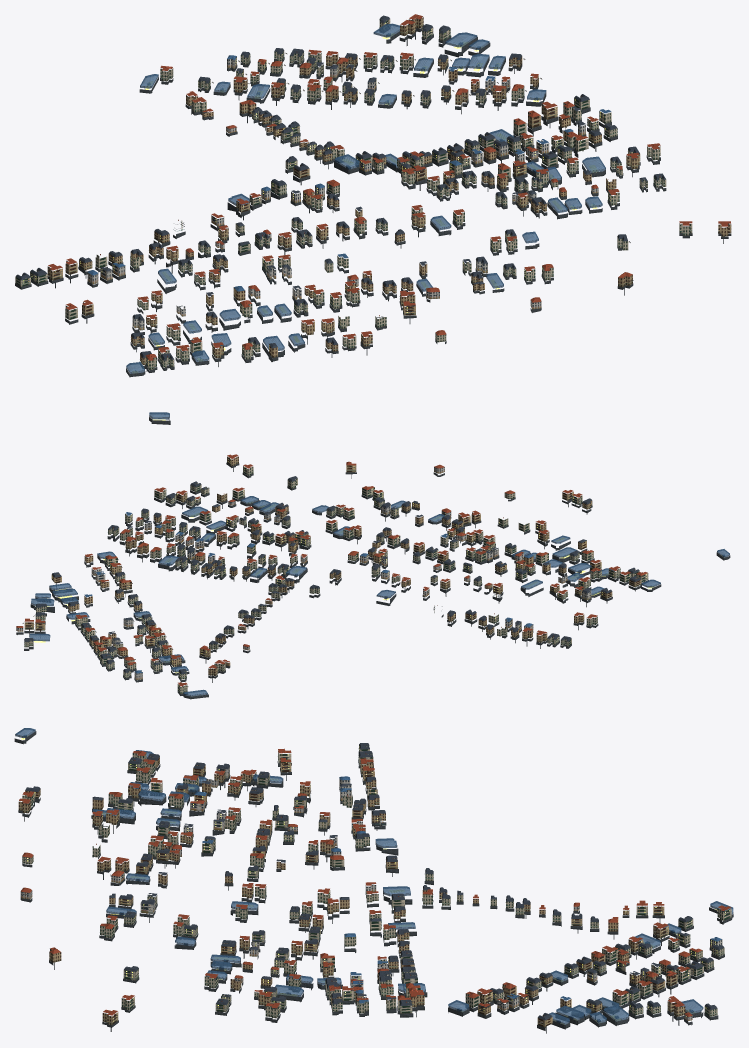
The model's file is osm_buildings_T_W01_N00_Q1.glb.
3 renders of one model, top to bottom at view 1: azimuth 30°, elevation 25°; view 2: azimuth 150°, elevation 25°; view 3: azimuth 270°, elevation 25°, orthographic. The views are drawn at different scales.
Visible parts, largest first — view 1: OSM_PBR_T_W01_N00_Q1_foundation, OSM_PBR_T_W01_N00_Q1_wall_cream_stucco, OSM_PBR_T_W01_N00_Q1_wall_french_ochre, OSM_PBR_T_W01_N00_Q1_greenhouse_blend, OSM_PBR_T_W01_N00_Q1_roof_terracotta, OSM_PBR_T_W01_N00_Q1_roof_mansard_slate, OSM_PBR_T_W01_N00_Q1_roof_mansard_deck, OSM_PBR_T_W01_N00_Q1_wall_warm_white, OSM_PBR_T_W01_N00_Q1_roof_mint_metal, OSM_PBR_T_W01_N00_Q1_trim_cornice, OSM_PBR_T_W01_N00_Q1_wall_pastel_sand, OSM_PBR_T_W01_N00_Q1_window_emissive_warm (+1 smaller); view 2: OSM_PBR_T_W01_N00_Q1_foundation, OSM_PBR_T_W01_N00_Q1_wall_cream_stucco, OSM_PBR_T_W01_N00_Q1_wall_french_ochre, OSM_PBR_T_W01_N00_Q1_greenhouse_blend, OSM_PBR_T_W01_N00_Q1_roof_terracotta, OSM_PBR_T_W01_N00_Q1_roof_mansard_slate, OSM_PBR_T_W01_N00_Q1_roof_mansard_deck, OSM_PBR_T_W01_N00_Q1_wall_warm_white, OSM_PBR_T_W01_N00_Q1_roof_mint_metal, OSM_PBR_T_W01_N00_Q1_wall_pastel_sand, OSM_PBR_T_W01_N00_Q1_balcony_railing, OSM_PBR_T_W01_N00_Q1_window_emissive_warm (+1 smaller); view 3: OSM_PBR_T_W01_N00_Q1_wall_cream_stucco, OSM_PBR_T_W01_N00_Q1_foundation, OSM_PBR_T_W01_N00_Q1_wall_french_ochre, OSM_PBR_T_W01_N00_Q1_greenhouse_blend, OSM_PBR_T_W01_N00_Q1_roof_terracotta, OSM_PBR_T_W01_N00_Q1_roof_mansard_slate, OSM_PBR_T_W01_N00_Q1_roof_mansard_deck, OSM_PBR_T_W01_N00_Q1_wall_warm_white, OSM_PBR_T_W01_N00_Q1_trim_cornice, OSM_PBR_T_W01_N00_Q1_roof_mint_metal, OSM_PBR_T_W01_N00_Q1_balcony_railing, OSM_PBR_T_W01_N00_Q1_wall_pastel_sand (+2 smaller).
Part boxes in pixels (bbox=[...]): OSM_PBR_T_W01_N00_Q1_foundation: bbox=[15, 27, 731, 424]; OSM_PBR_T_W01_N00_Q1_wall_cream_stucco: bbox=[15, 19, 692, 369]; OSM_PBR_T_W01_N00_Q1_wall_french_ochre: bbox=[47, 17, 731, 365]; OSM_PBR_T_W01_N00_Q1_greenhouse_blend: bbox=[126, 23, 605, 419]; OSM_PBR_T_W01_N00_Q1_roof_terracotta: bbox=[38, 14, 730, 360]; OSM_PBR_T_W01_N00_Q1_roof_mansard_slate: bbox=[16, 17, 665, 360]; OSM_PBR_T_W01_N00_Q1_roof_mansard_deck: bbox=[17, 15, 664, 419]; OSM_PBR_T_W01_N00_Q1_wall_warm_white: bbox=[100, 57, 510, 330]; OSM_PBR_T_W01_N00_Q1_roof_mint_metal: bbox=[16, 24, 718, 367]; OSM_PBR_T_W01_N00_Q1_trim_cornice: bbox=[18, 17, 730, 365]; OSM_PBR_T_W01_N00_Q1_wall_pastel_sand: bbox=[87, 20, 598, 316]; OSM_PBR_T_W01_N00_Q1_window_emissive_warm: bbox=[23, 22, 610, 420]; OSM_PBR_T_W01_N00_Q1_foundation: bbox=[16, 462, 730, 699]; OSM_PBR_T_W01_N00_Q1_wall_cream_stucco: bbox=[24, 466, 648, 693]; OSM_PBR_T_W01_N00_Q1_wall_french_ochre: bbox=[24, 456, 641, 675]; OSM_PBR_T_W01_N00_Q1_greenhouse_blend: bbox=[29, 496, 729, 696]; OSM_PBR_T_W01_N00_Q1_roof_terracotta: bbox=[16, 454, 647, 686]; OSM_PBR_T_W01_N00_Q1_roof_mansard_slate: bbox=[24, 477, 641, 674]; OSM_PBR_T_W01_N00_Q1_roof_mansard_deck: bbox=[25, 476, 723, 696]; OSM_PBR_T_W01_N00_Q1_wall_warm_white: bbox=[91, 504, 591, 680]; OSM_PBR_T_W01_N00_Q1_roof_mint_metal: bbox=[24, 462, 647, 692]; OSM_PBR_T_W01_N00_Q1_wall_pastel_sand: bbox=[16, 467, 567, 632]; OSM_PBR_T_W01_N00_Q1_balcony_railing: bbox=[26, 458, 646, 690]; OSM_PBR_T_W01_N00_Q1_window_emissive_warm: bbox=[26, 461, 721, 676]; OSM_PBR_T_W01_N00_Q1_wall_cream_stucco: bbox=[22, 746, 731, 1018]; OSM_PBR_T_W01_N00_Q1_foundation: bbox=[14, 731, 733, 1033]; OSM_PBR_T_W01_N00_Q1_wall_french_ochre: bbox=[18, 756, 685, 1027]; OSM_PBR_T_W01_N00_Q1_greenhouse_blend: bbox=[15, 728, 733, 1024]; OSM_PBR_T_W01_N00_Q1_roof_terracotta: bbox=[19, 748, 730, 1016]; OSM_PBR_T_W01_N00_Q1_roof_mansard_slate: bbox=[25, 743, 724, 1020]; OSM_PBR_T_W01_N00_Q1_roof_mansard_deck: bbox=[15, 734, 733, 1023]; OSM_PBR_T_W01_N00_Q1_wall_warm_white: bbox=[111, 766, 722, 1010]; OSM_PBR_T_W01_N00_Q1_trim_cornice: bbox=[19, 745, 730, 1020]; OSM_PBR_T_W01_N00_Q1_roof_mint_metal: bbox=[19, 762, 730, 1024]; OSM_PBR_T_W01_N00_Q1_balcony_railing: bbox=[23, 748, 730, 1019]; OSM_PBR_T_W01_N00_Q1_wall_pastel_sand: bbox=[20, 778, 692, 1020].
Bounding box in the file's own units: 1004 × 92.43 × 1002.
Materials: 18 (16 with a texture image).
